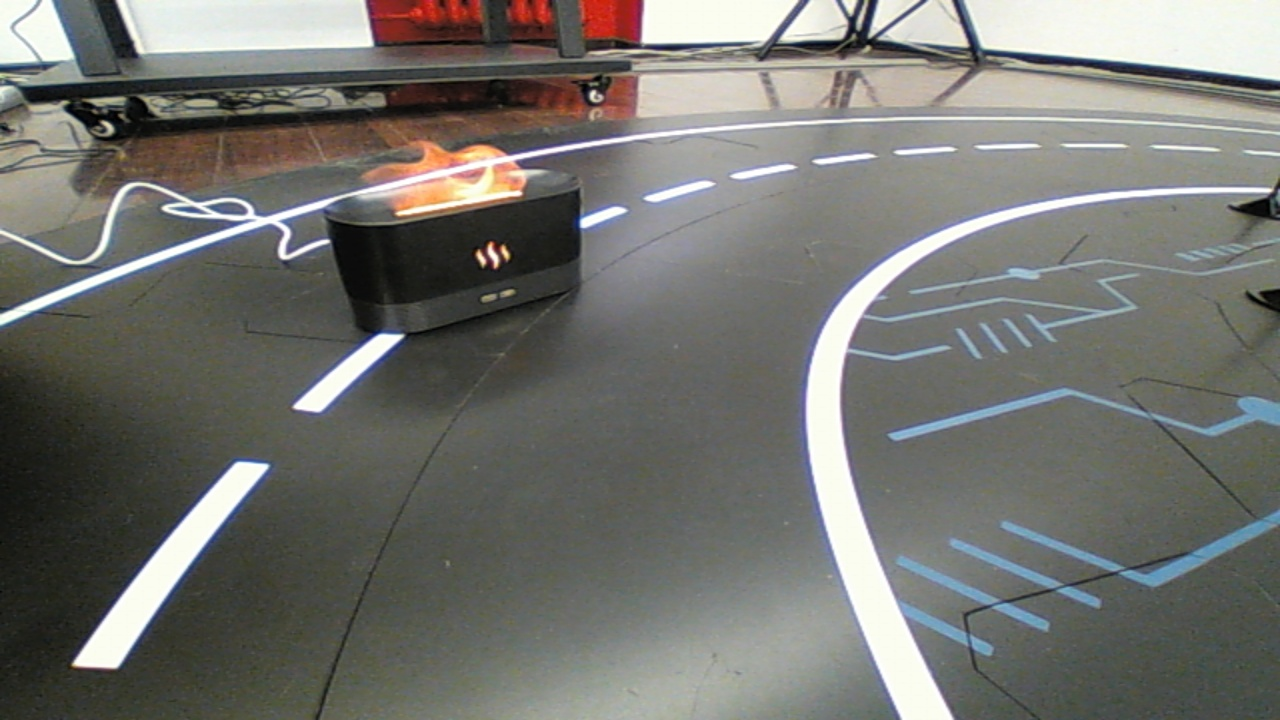Movement prohibition: (315, 141, 602, 346)
